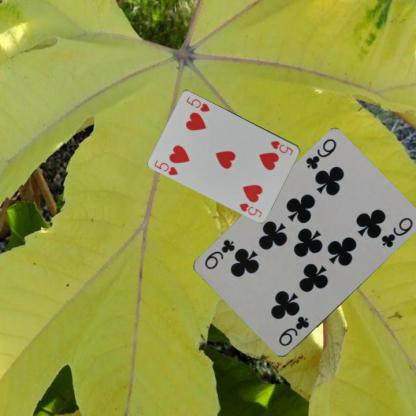5h: (268, 138, 295, 157), (152, 158, 179, 177)
9c: (303, 136, 338, 172), (276, 314, 310, 348)
